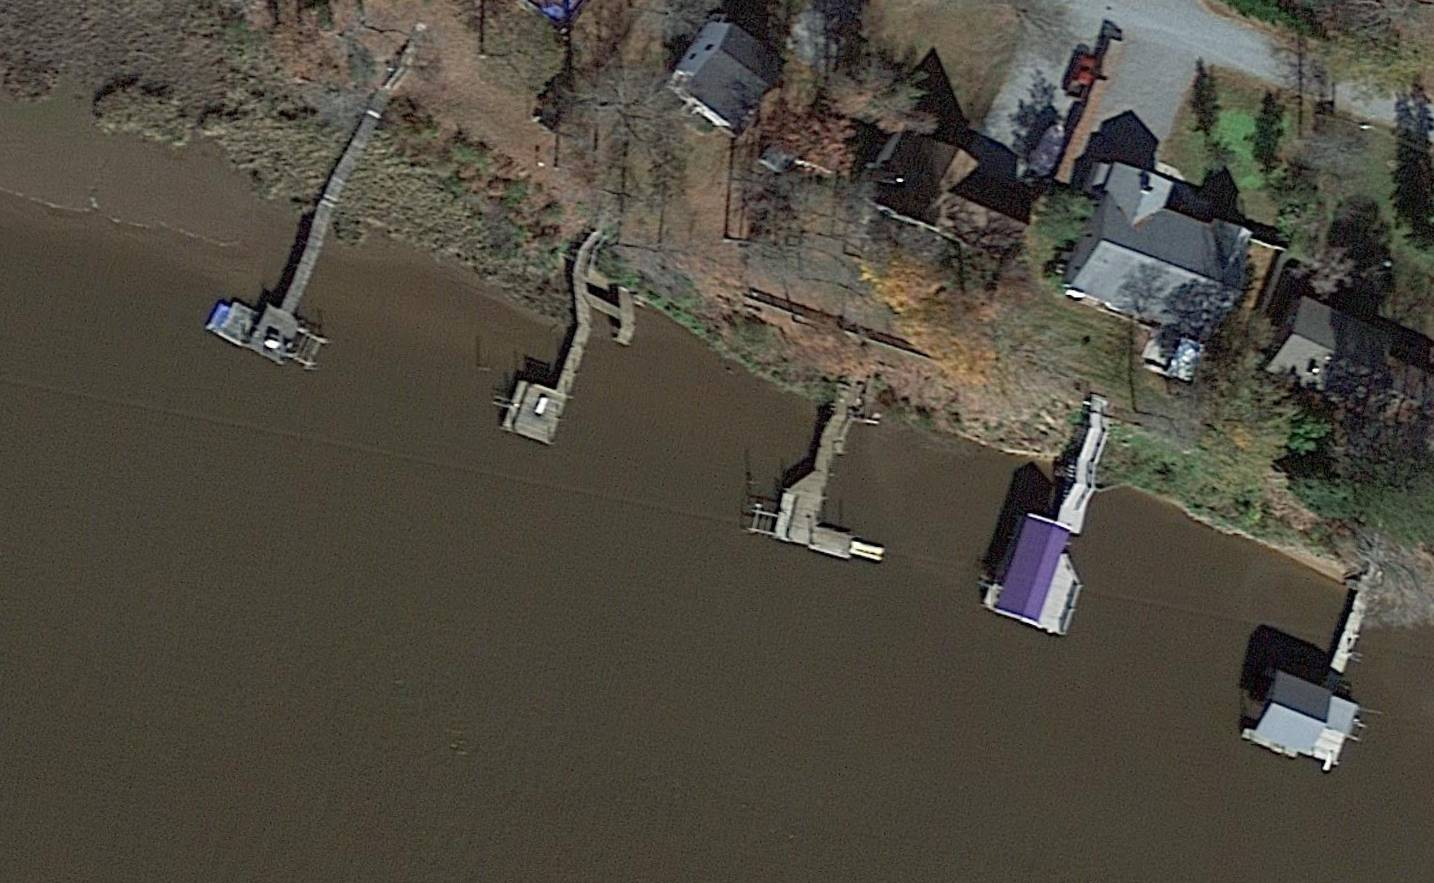harbor: (206, 132, 374, 367), (1236, 574, 1398, 776), (980, 424, 1133, 638), (502, 276, 610, 446), (771, 415, 880, 560)
